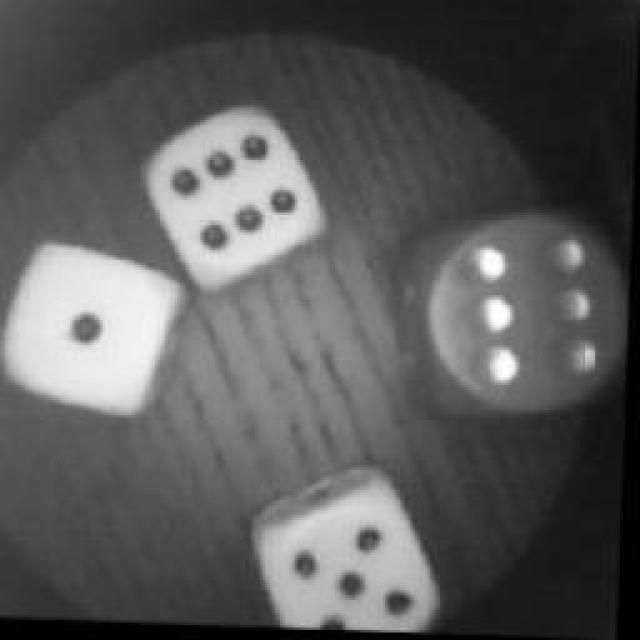dice_1: (0, 238, 188, 430)
dice_5: (254, 480, 456, 635)
dice_6: (398, 200, 634, 430), (141, 101, 331, 296)
